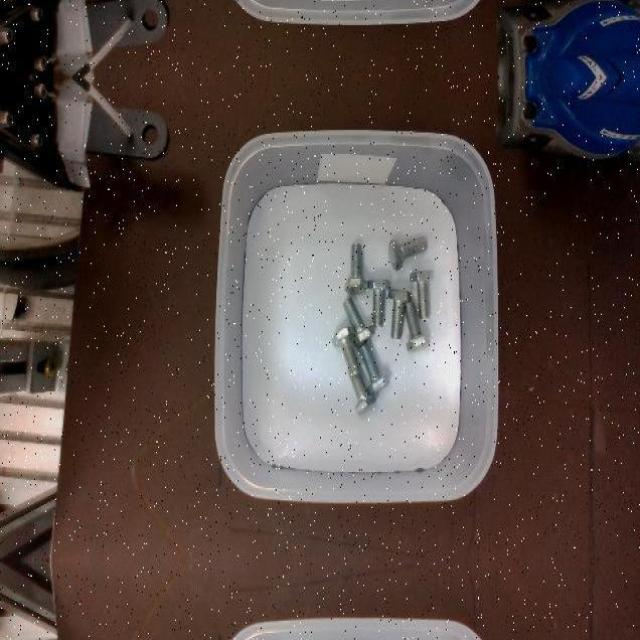screw: (342, 297, 374, 347), (360, 343, 390, 396), (332, 326, 360, 377), (387, 236, 428, 269), (404, 300, 430, 352), (344, 243, 368, 296), (409, 268, 434, 318), (388, 290, 412, 338), (368, 278, 390, 324)
